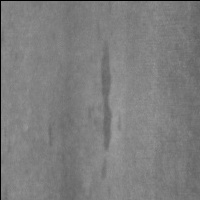inclusion: (89, 37, 120, 182), (44, 114, 61, 150)
